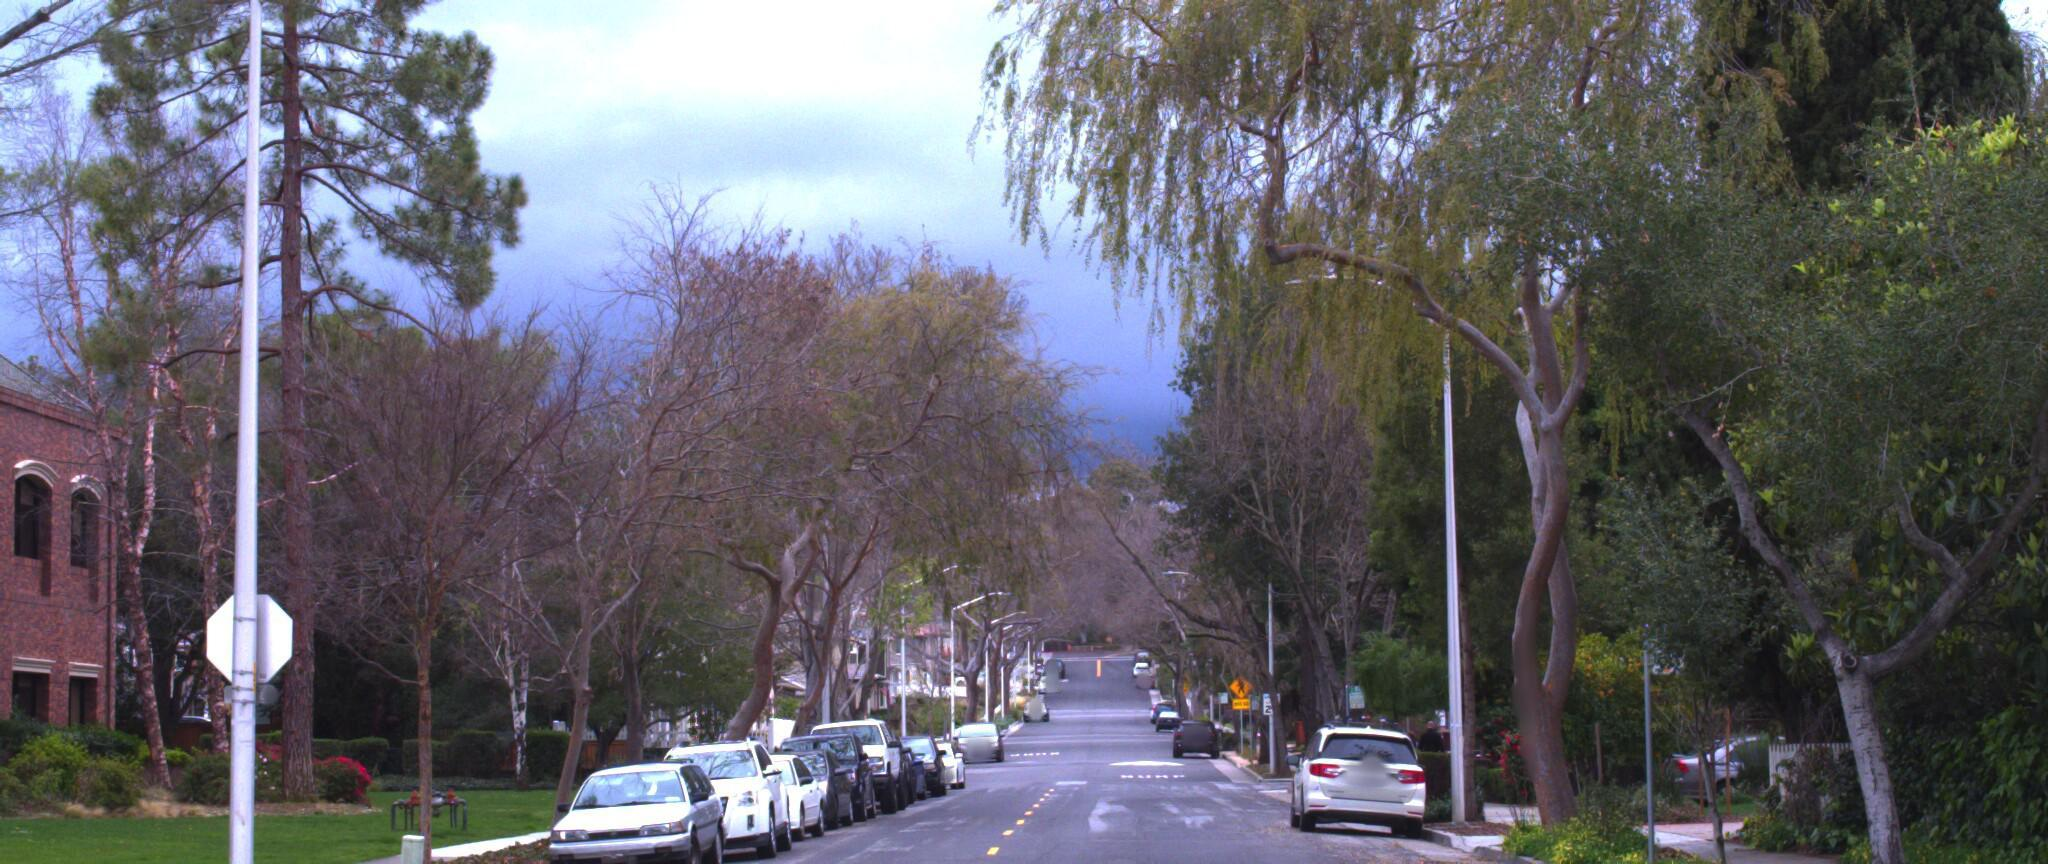car: (632, 733, 807, 864), (546, 760, 734, 864), (1289, 713, 1437, 838), (690, 750, 840, 854), (790, 717, 920, 820)
